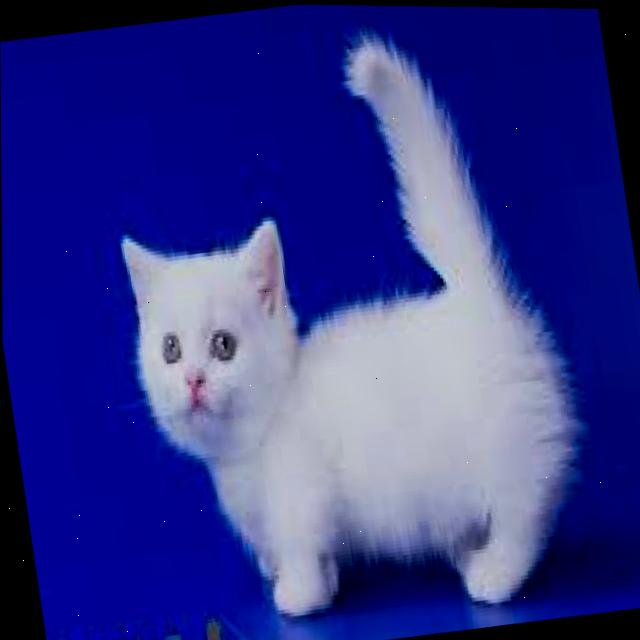Munchkin: (84, 1, 612, 640)
